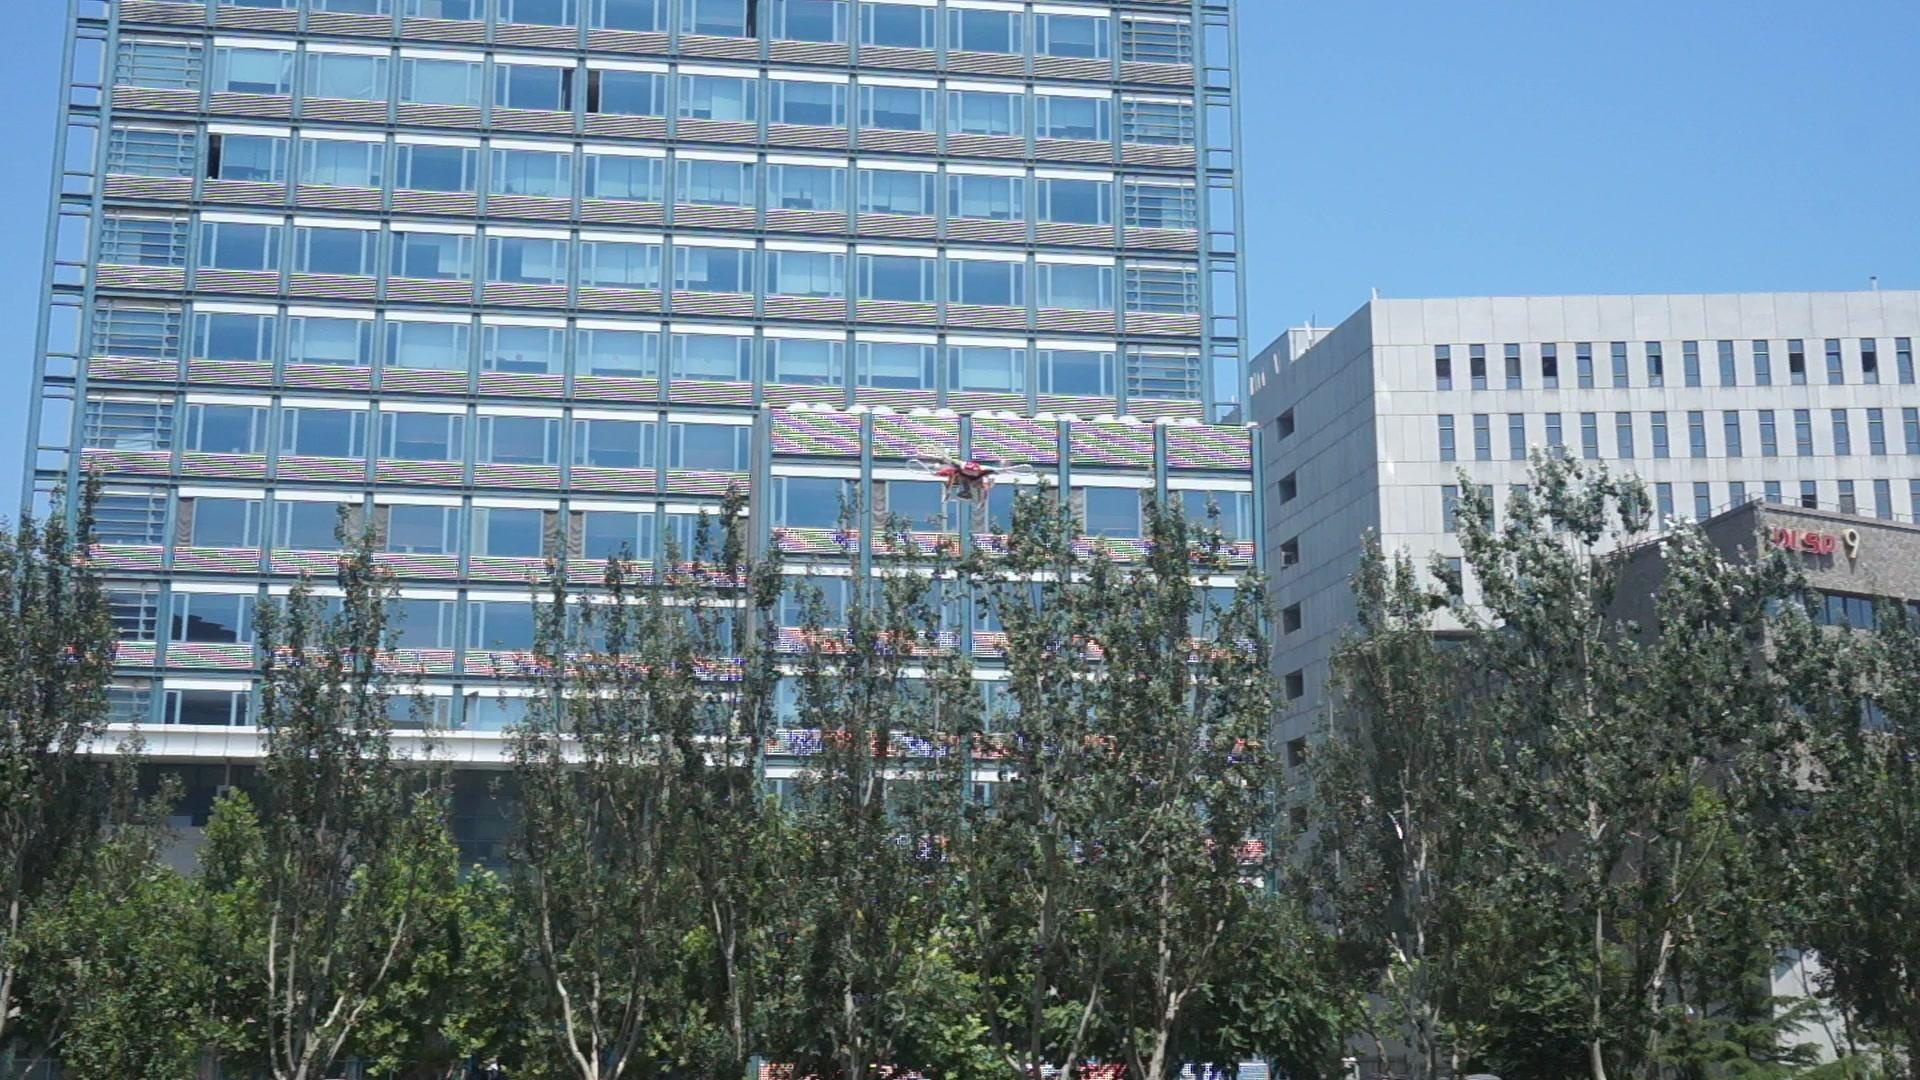UAV: (906, 444, 1036, 502)
